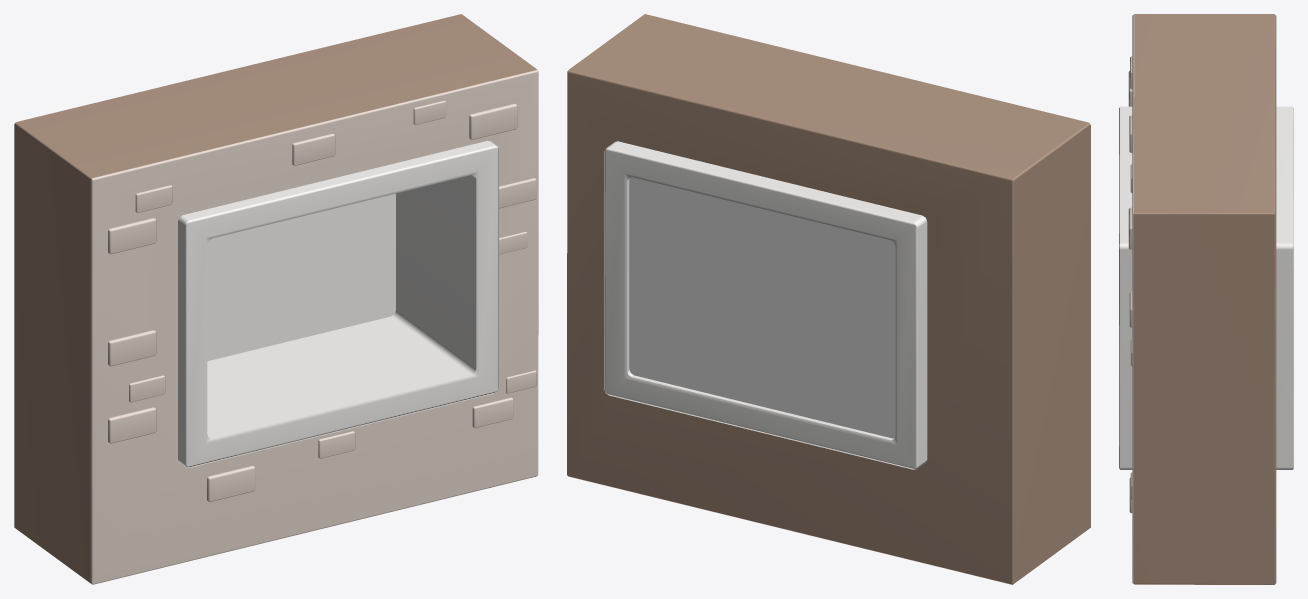
The model's file is Wall_22.glb.
3 views of the same model, side by side, from view 1: azimuth 30°, elevation 25°; view 2: azimuth 150°, elevation 25°; view 3: azimuth 270°, elevation 25° (orthographic). The views are drawn at different scales.
Parts seen in each view (by area): view 1: Wall_22; view 2: Wall_22; view 3: Wall_22.
Part boxes in pixels (box(x1,y1,x2,y2)): Wall_22: box(14, 14, 538, 584); Wall_22: box(567, 14, 1090, 584); Wall_22: box(1119, 14, 1293, 584).
Size of the model in its own units: 4.6 by 4 by 1.7.
Materials: 2 (2 with a texture image).
